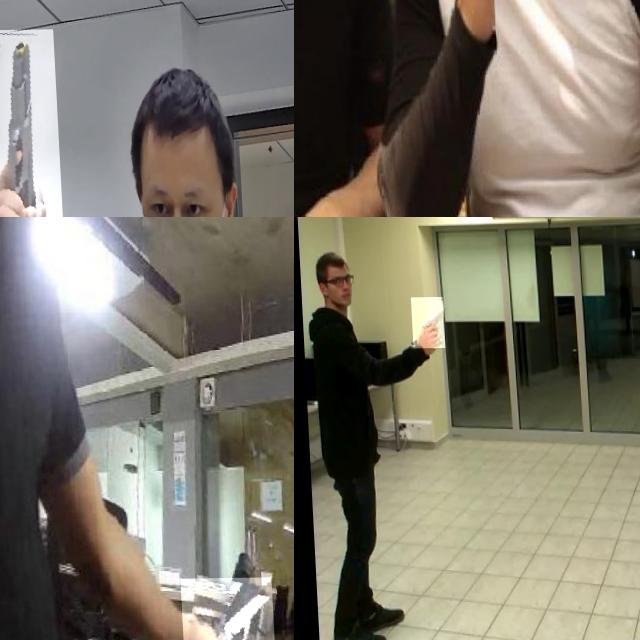-: (174, 578, 270, 640), (294, 0, 340, 128)
gun-knife-thesis - v11 Yolov5 augmented: (0, 30, 61, 217), (408, 297, 442, 348)
